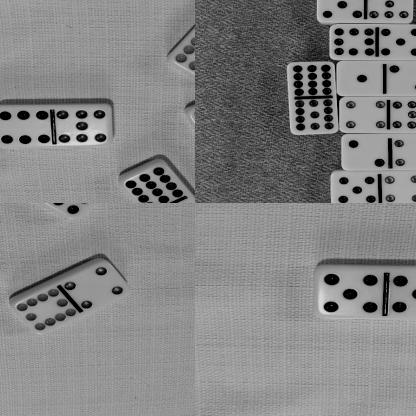pip-1: (336, 60, 386, 97)
pip-10: (17, 290, 77, 336), (172, 29, 195, 83)
pip-11: (290, 97, 339, 135)
pip-12: (123, 164, 183, 203), (287, 61, 338, 98)
pip-2: (342, 134, 390, 170), (385, 61, 416, 97)
pip-4: (66, 261, 134, 311), (339, 97, 390, 134), (380, 171, 416, 203), (391, 133, 416, 170)
pip-5: (317, 266, 387, 320), (331, 170, 381, 203), (387, 266, 416, 322), (378, 24, 416, 60), (316, 0, 365, 24)
pip-6: (0, 105, 52, 148)
pip-7: (54, 105, 113, 147), (366, 0, 413, 24), (389, 97, 416, 133)
pip-8: (329, 24, 378, 60), (38, 203, 108, 220)
